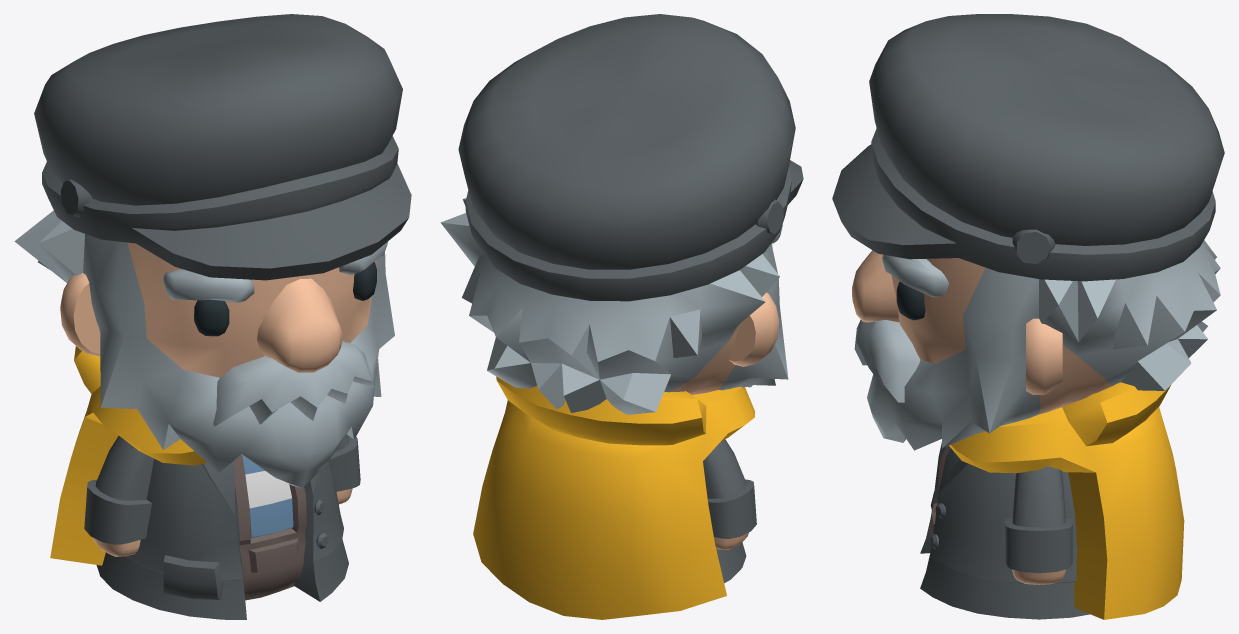
The model's file is character_fisherman.gltf.
3 views of the same model, side by side, from view 1: azimuth 30°, elevation 25°; view 2: azimuth 150°, elevation 25°; view 3: azimuth 270°, elevation 25° (orthographic). The views are drawn at different scales.
Parts seen in each view (by area): view 1: character_fishermanHat, character_fishermanHead, character_fishermanBody, character_fishermanCoat, character_fishermanArmRight, character_fishermanArmLeft; view 2: character_fishermanHat, character_fishermanCoat, character_fishermanHead, character_fishermanArmRight, character_fishermanBody; view 3: character_fishermanHat, character_fishermanHead, character_fishermanCoat, character_fishermanBody, character_fishermanArmLeft.
Boxes of the visible parts, x1,y1,x2,y2 form: character_fishermanHat: (34, 14, 411, 280); character_fishermanHead: (14, 210, 394, 487); character_fishermanBody: (96, 455, 348, 619); character_fishermanCoat: (50, 346, 207, 565); character_fishermanArmRight: (84, 436, 154, 556); character_fishermanArmLeft: (330, 434, 360, 504); character_fishermanHat: (458, 14, 803, 301); character_fishermanCoat: (473, 376, 754, 619); character_fishermanHead: (440, 198, 788, 414); character_fishermanArmRight: (703, 439, 756, 549); character_fishermanBody: (716, 542, 746, 582); character_fishermanHat: (832, 14, 1224, 281); character_fishermanHead: (852, 240, 1220, 450); character_fishermanCoat: (949, 382, 1184, 619); character_fishermanBody: (920, 442, 1089, 619); character_fishermanArmLeft: (1005, 466, 1072, 584).
Size of the model in its own units: 1.31 by 1.95 by 1.29.
